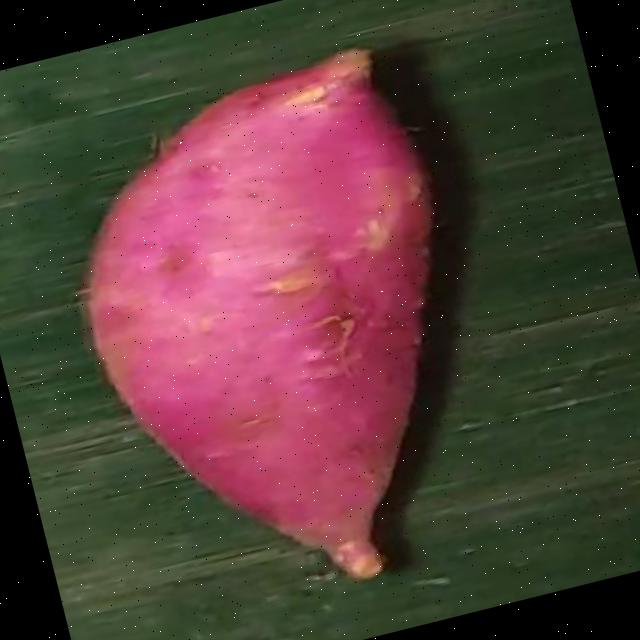Sweet Potato: (84, 47, 433, 580)
